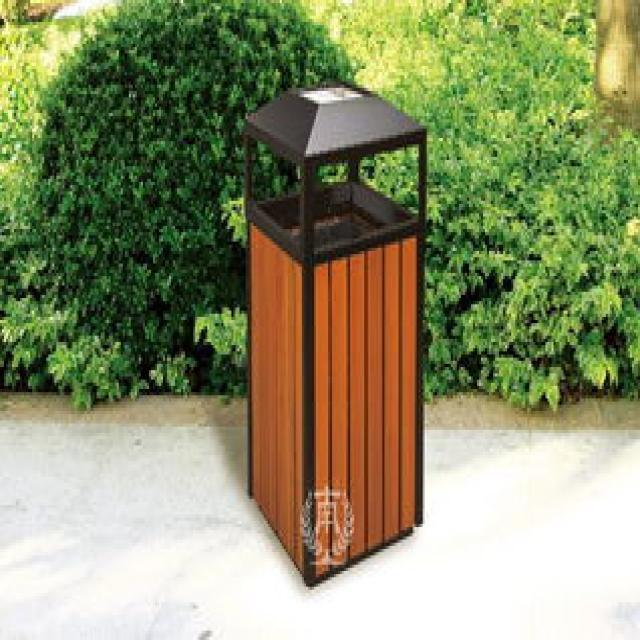garbage_bin: (242, 81, 424, 586)
